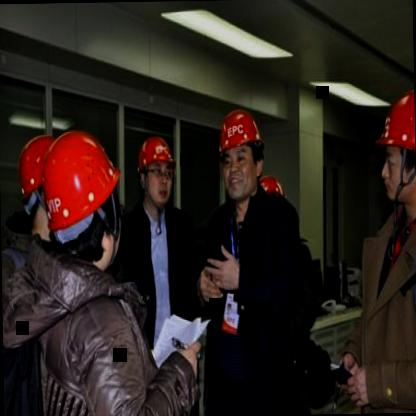helmet: (29, 127, 121, 258), (212, 101, 264, 202), (376, 86, 416, 216), (15, 132, 58, 242), (134, 128, 178, 208)
